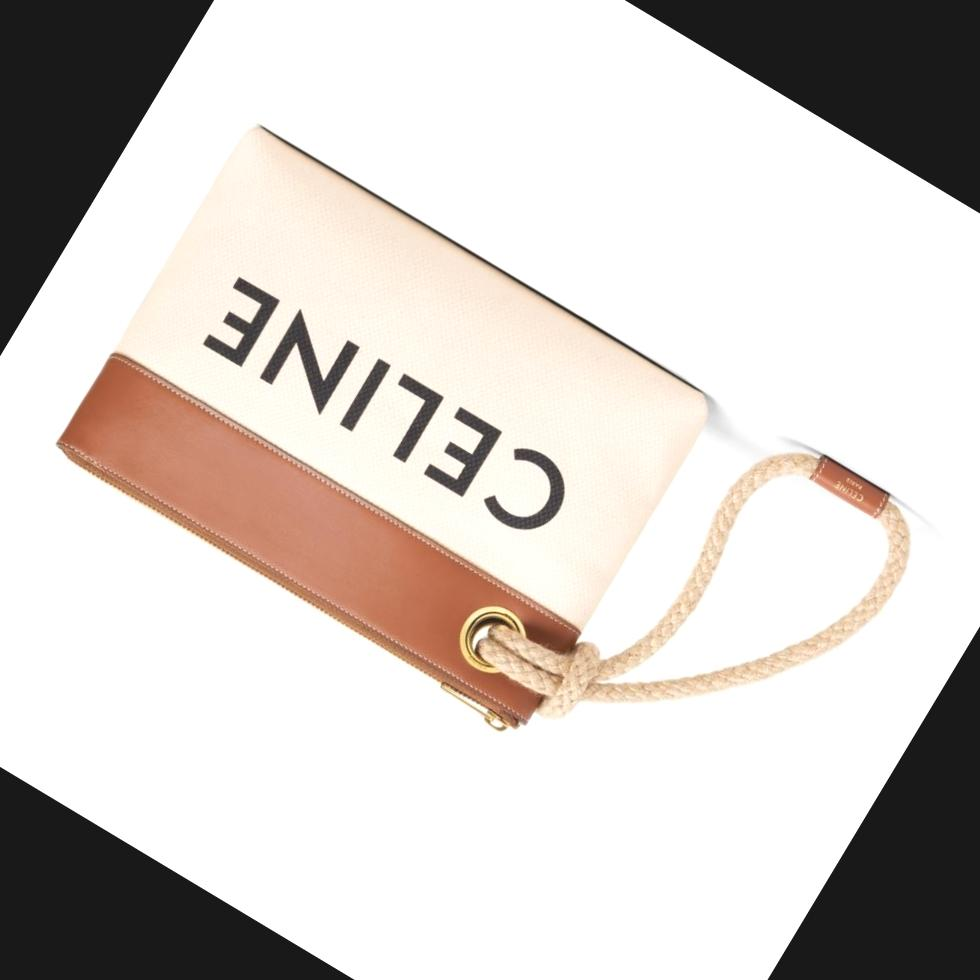CELINE: (199, 274, 578, 546)
